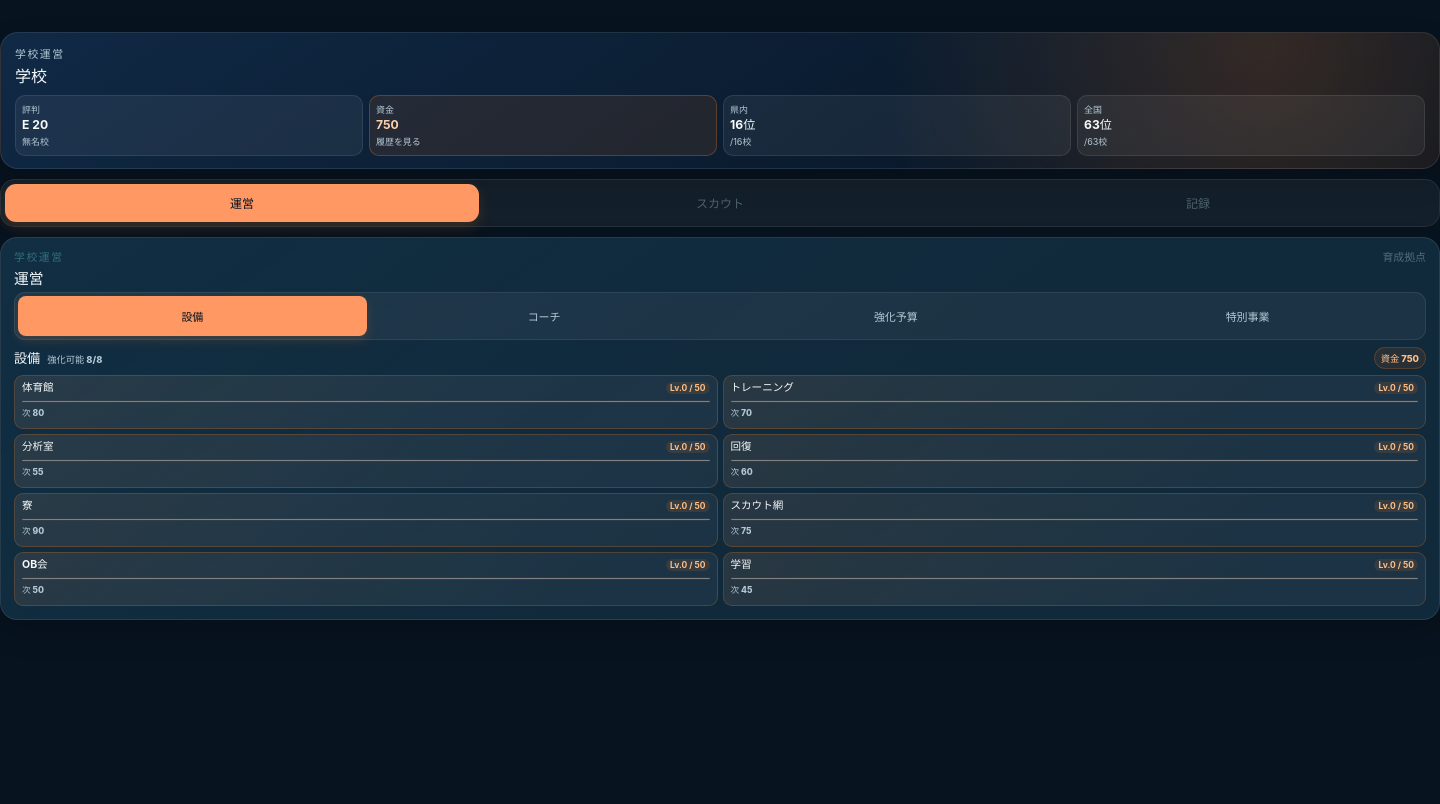
Scenario: SchoolLegacyPanel › shows lifetime rivalry records inside the existing records tab
Click the tab "記録" at (1198, 203), box [961,184,1435,222]
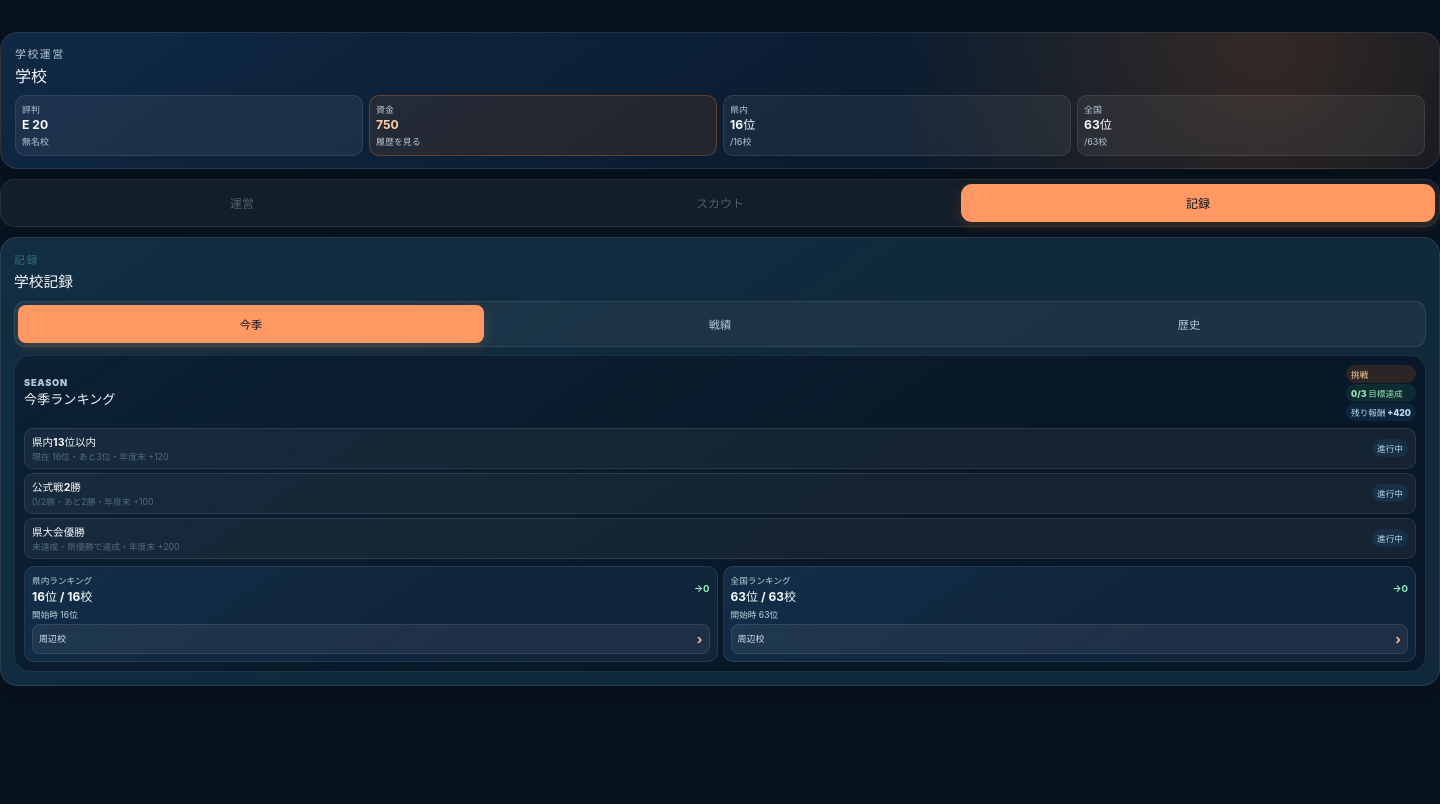
Click the tab "歴史" at (1189, 324), box [956,305,1422,343]
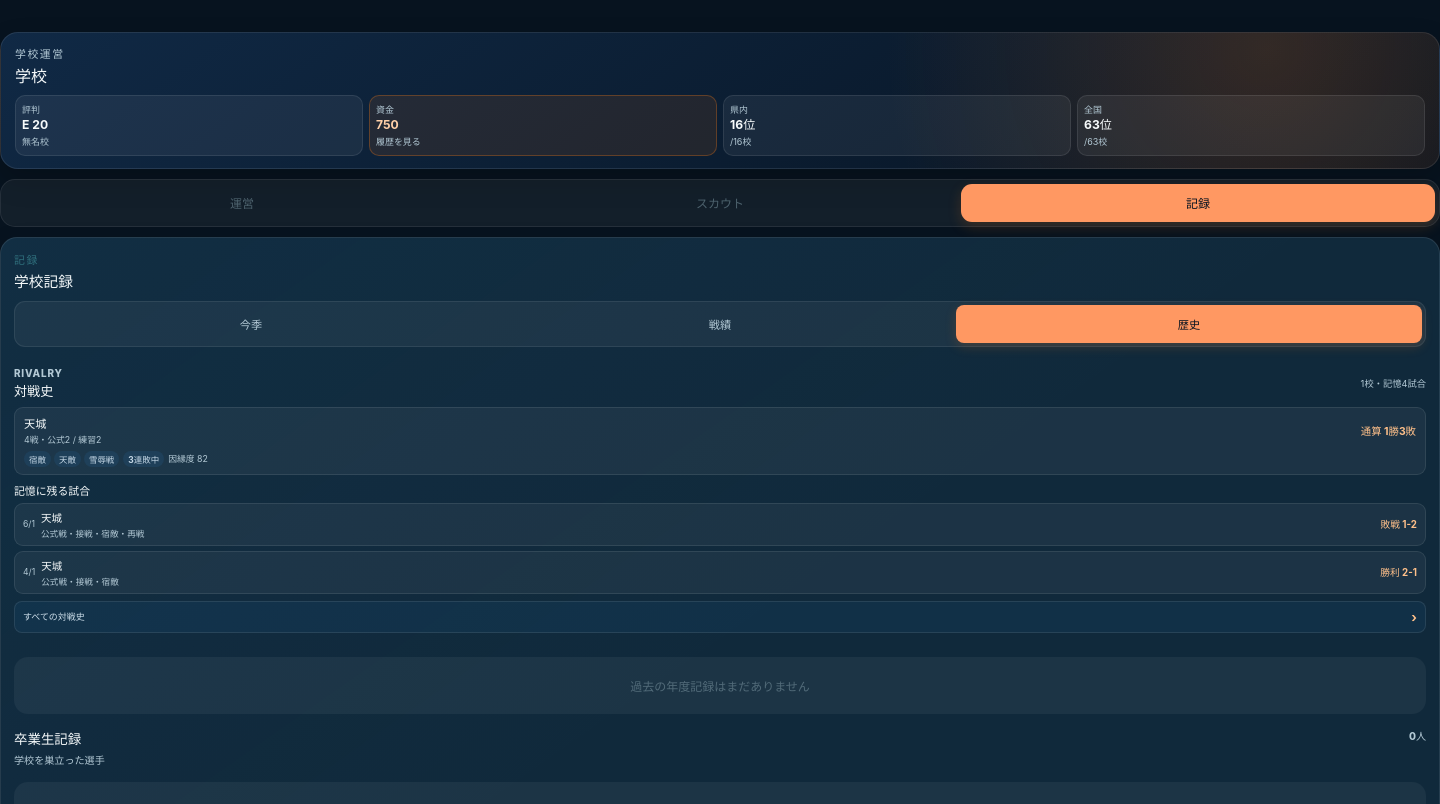
Check: the element "対戦史" is shown, box [14,367,1426,633]
Check: the text "天城" in the row of "通算 1勝3敗" is shown, box [24,417,46,431]
Check: the text "通算 1勝3敗" is shown, box [1361,423,1416,438]
